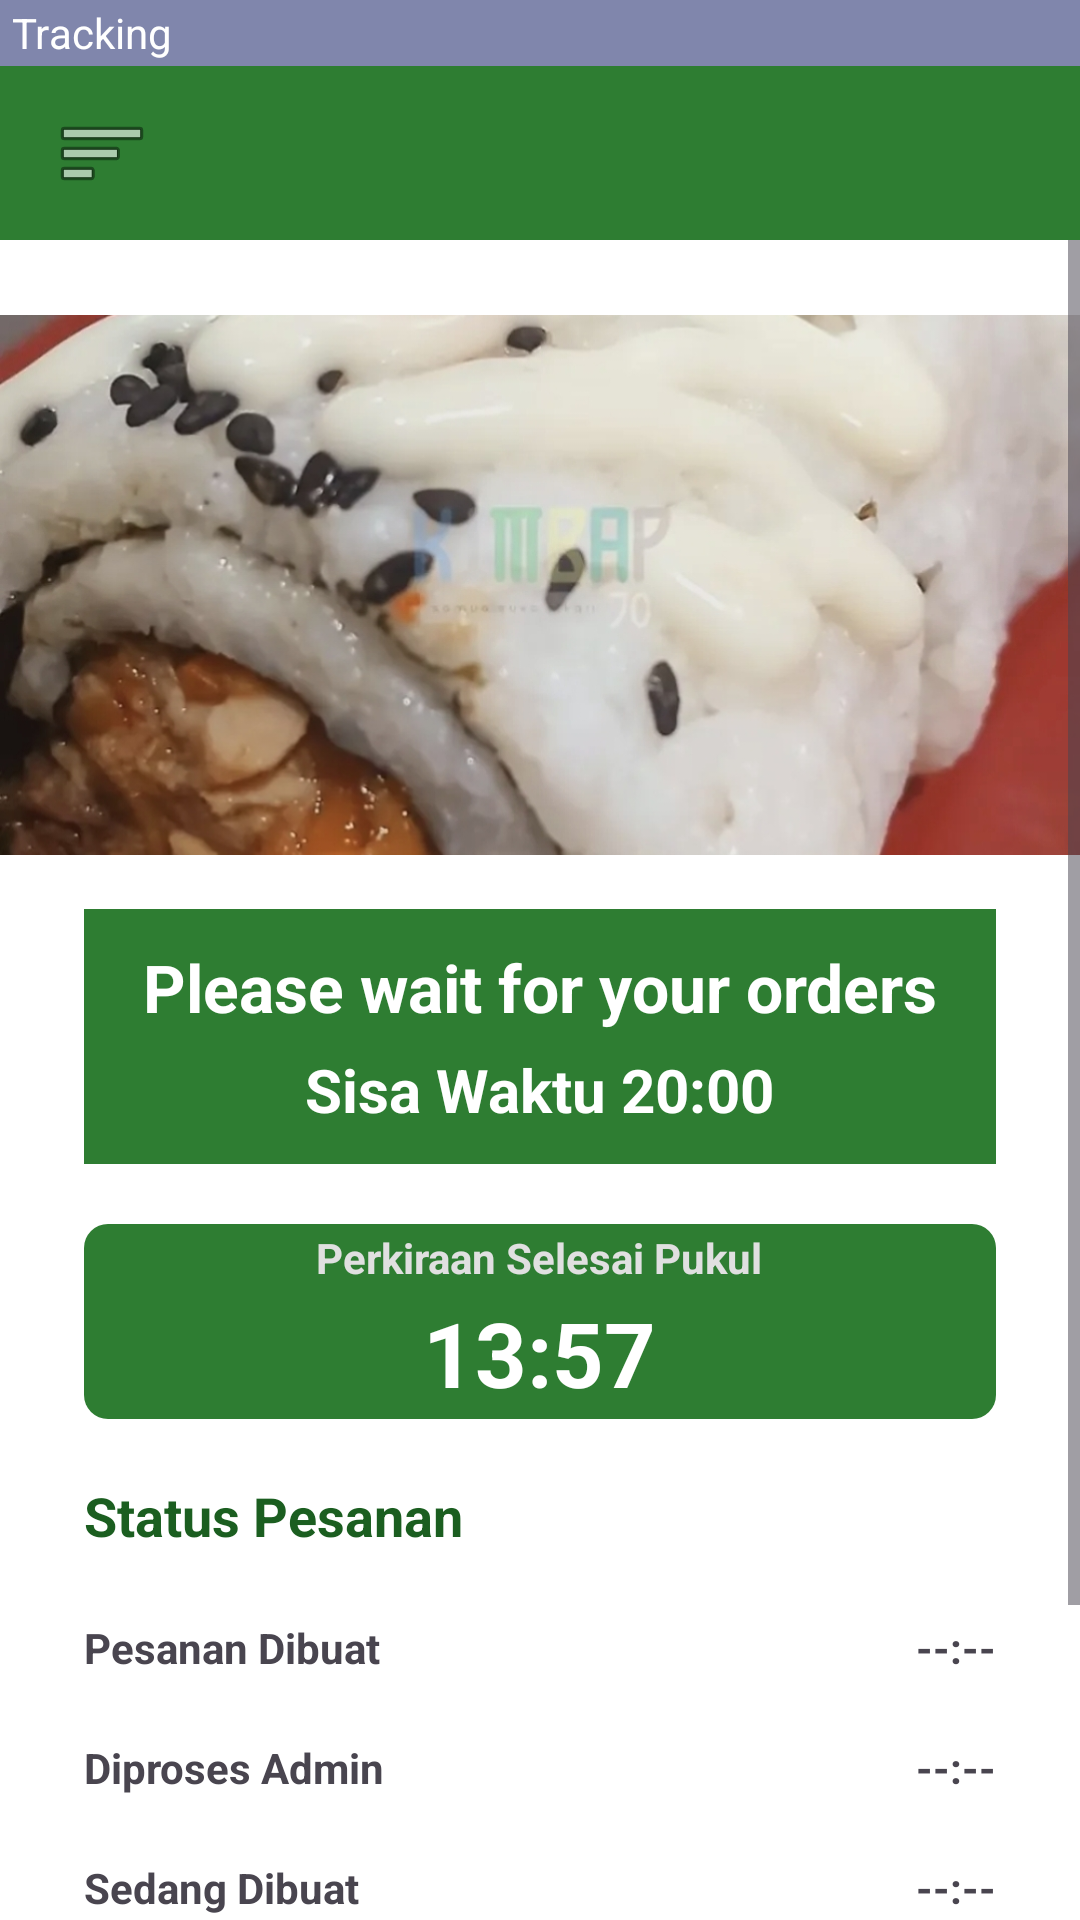

Icon bounding boxes for this 1080×1920 phone screenshot, format (x1, y1, x2, y2):
sort by size: (61, 127, 143, 180)
